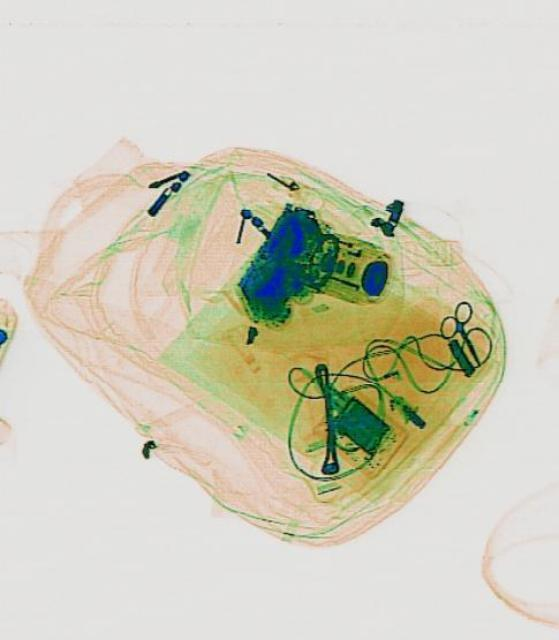Scissors: (429, 295, 495, 375)
